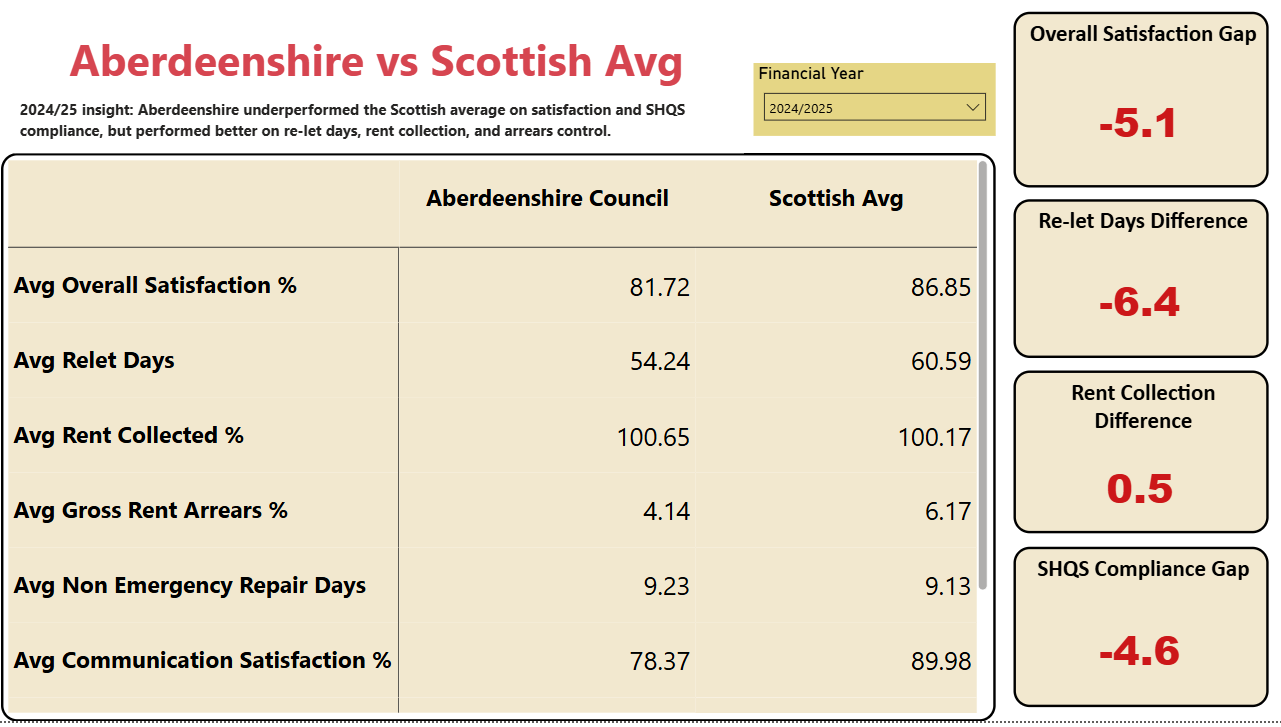

The dashboard page shown, as its layout file describes it:
{"tool":"powerbi","page":{"name":"Page 2","canvas":[1280,720],"ordinal":1},"visuals":[{"type":"pivotTable","title":"Sales Rep Performance","fields":{"Columns":["Cleaned charter_public.Landlord name"],"Values":["Cleaned charter_public.Avg Overall Satisfaction %","Cleaned charter_public.Avg Relet Days","Cleaned charter_public.Avg Rent Collected %","Cleaned charter_public.Avg Gross Rent Arrears %","Cleaned charter_public.Avg Non Emergency Repair Days","Cleaned charter_public.Avg Communication Satisfaction %","Cleaned charter_public.Avg Emergency repair hours","Cleaned charter_public.Avg SHQS Compliance %"]},"box":[9.9,158,982.7,561.7],"z":0},{"type":"cardVisual","title":"Overall Satisfaction Gap","fields":{"Data":["Cleaned charter_public.Overall Satisfaction Variance"]},"box":[1010.4,18.3,251.6,173.4],"z":1000},{"type":"cardVisual","title":"Re-let Days Difference","fields":{"Data":["Cleaned charter_public.Relet Days Variance"]},"box":[1010.4,203.4,251.6,156.4],"z":2000},{"type":"cardVisual","title":"Rent Collection Difference","fields":{"Data":["Cleaned charter_public.Rent Collected Variance"]},"box":[1009.9,372.8,251.9,160.5],"z":3000},{"type":"cardVisual","title":"SHQS Compliance Gap","fields":{"Data":["Cleaned charter_public.SHQS Compliance Variance"]},"box":[1009.9,546.9,251.9,158],"z":4000},{"type":"textbox","box":[9.9,30.9,742,74.1],"z":5000},{"type":"slicer","title":"Financial Year","fields":{"Values":["Cleaned charter_public.Financial Year"]},"box":[753.1,69.1,239.5,71.6],"z":5001},{"type":"textbox","box":[23.5,100,719.8,58],"z":5002}]}

Visuals, with their boxes in screenshot pixels (x1, y1, x2, y2), scaled from the page's 1280x720 canvas onto the 1281x727 screenshot:
"Sales Rep Performance" pivotTable: [left=10, top=160, right=993, bottom=726]
"Overall Satisfaction Gap" cardVisual: [left=1011, top=18, right=1263, bottom=194]
"Re-let Days Difference" cardVisual: [left=1011, top=205, right=1263, bottom=363]
"Rent Collection Difference" cardVisual: [left=1011, top=376, right=1263, bottom=538]
"SHQS Compliance Gap" cardVisual: [left=1011, top=552, right=1263, bottom=712]
textbox: [left=10, top=31, right=752, bottom=106]
"Financial Year" slicer: [left=754, top=70, right=993, bottom=142]
textbox: [left=24, top=101, right=744, bottom=160]
